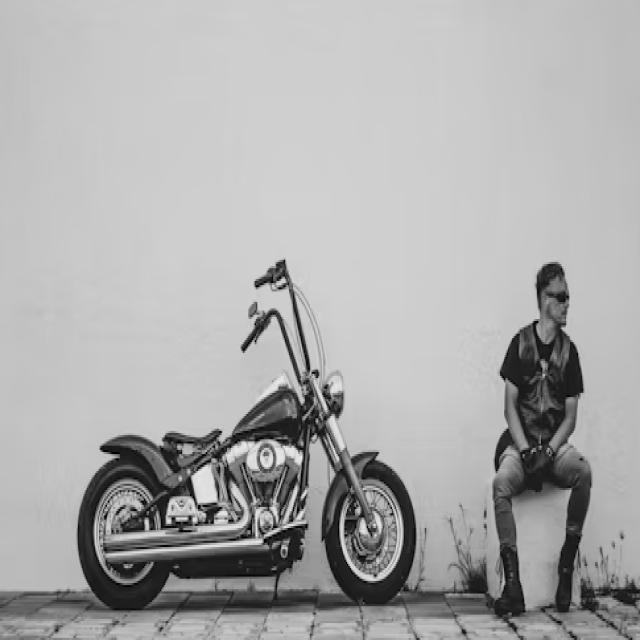Edited images: (484, 243, 601, 640)
